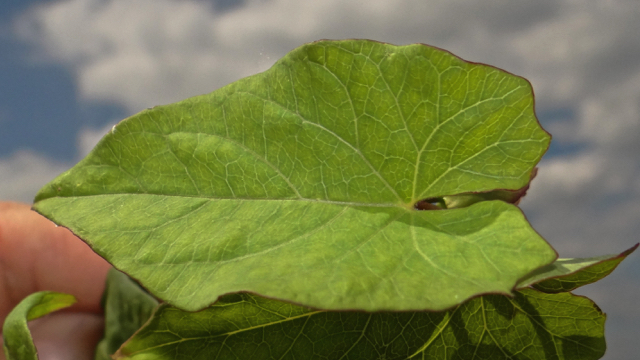haagwinde: (15, 22, 587, 320)
